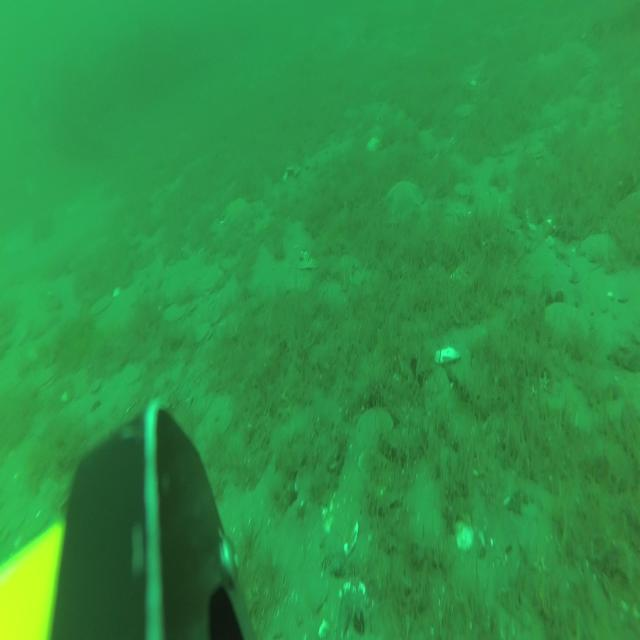scallop: (545, 300, 590, 346), (356, 408, 392, 450), (207, 394, 235, 441), (582, 233, 618, 264), (163, 302, 188, 326), (88, 295, 111, 317), (196, 323, 212, 348), (38, 368, 53, 392)
starfish: (387, 180, 421, 217), (220, 195, 248, 228)
